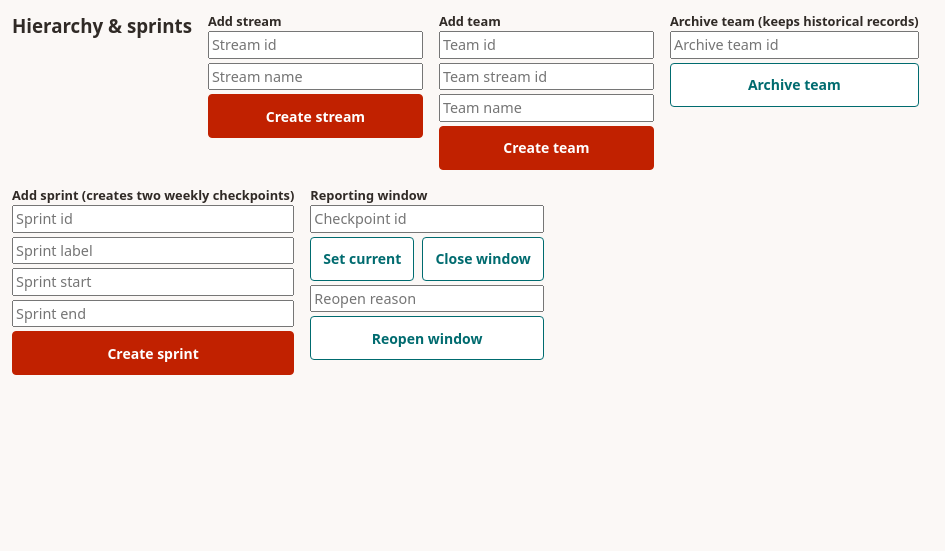
Test: HierarchyAdmin › surfaces an explicit connection error
The width and height of the screenshot is (945, 551).
Step 1. Type "X" into the field labelled "Stream id" → (315, 45), box top-left (208, 31), bottom-right (423, 59)
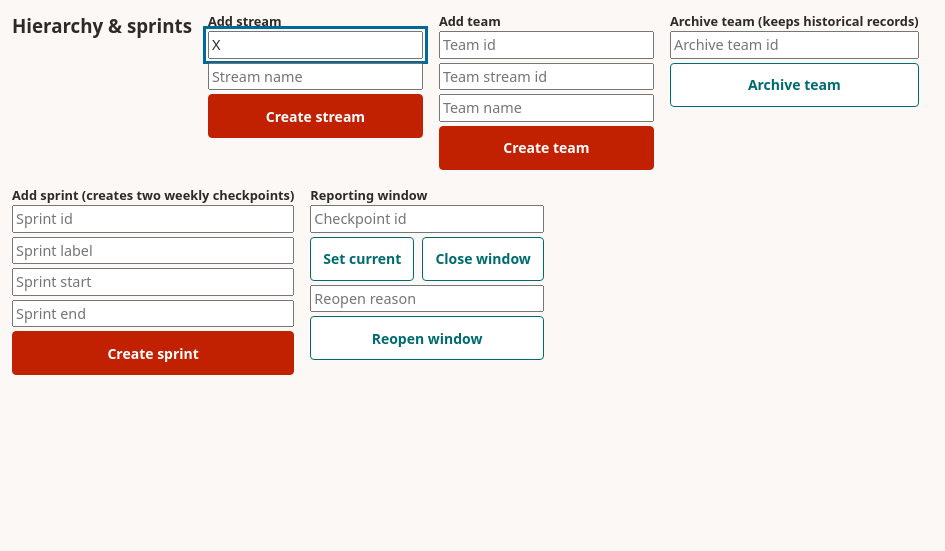
Step 2. Type "X" into the field labelled "Stream name" → (315, 77), box top-left (208, 63), bottom-right (423, 90)
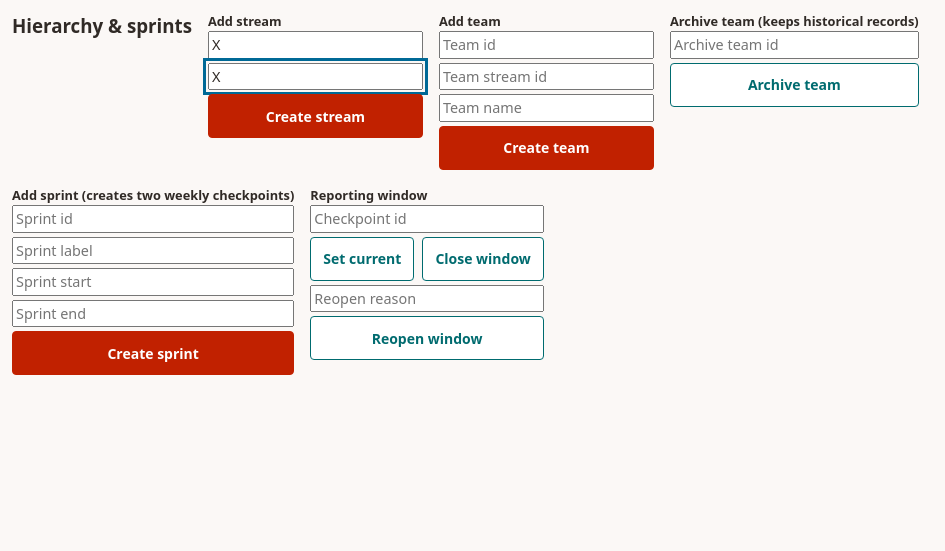
Step 3. Click the button "Create stream" → (315, 116), box top-left (208, 94), bottom-right (423, 138)
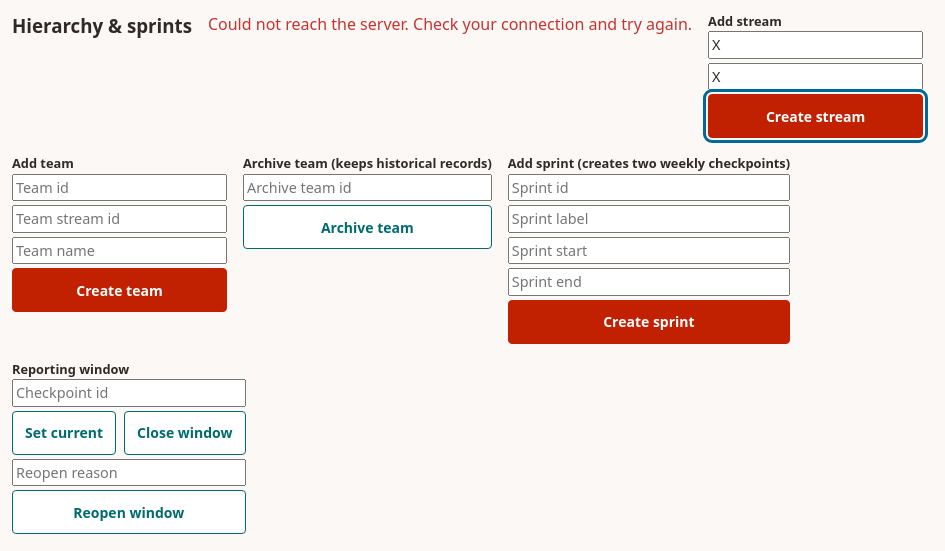
expect the message shows "Could not reach the server": met, box top-left (208, 13), bottom-right (692, 35)
